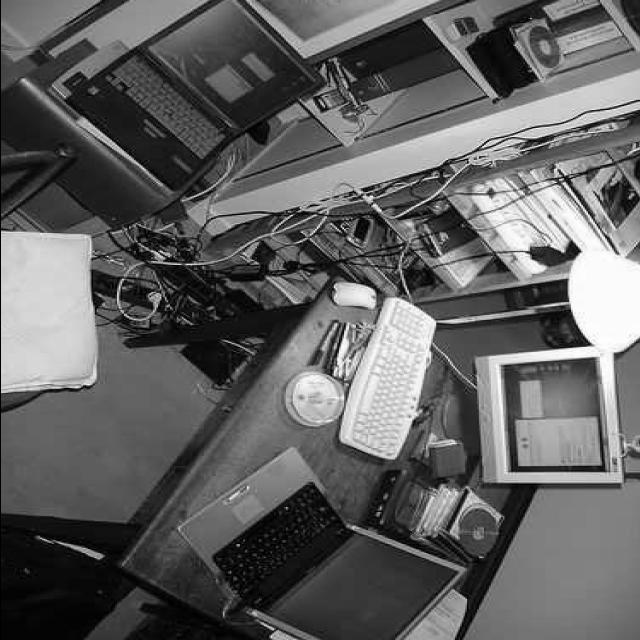laptop: (171, 458, 455, 640), (70, 0, 322, 197)
